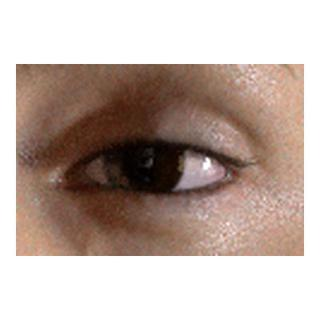pupil: (124, 141, 163, 180)
